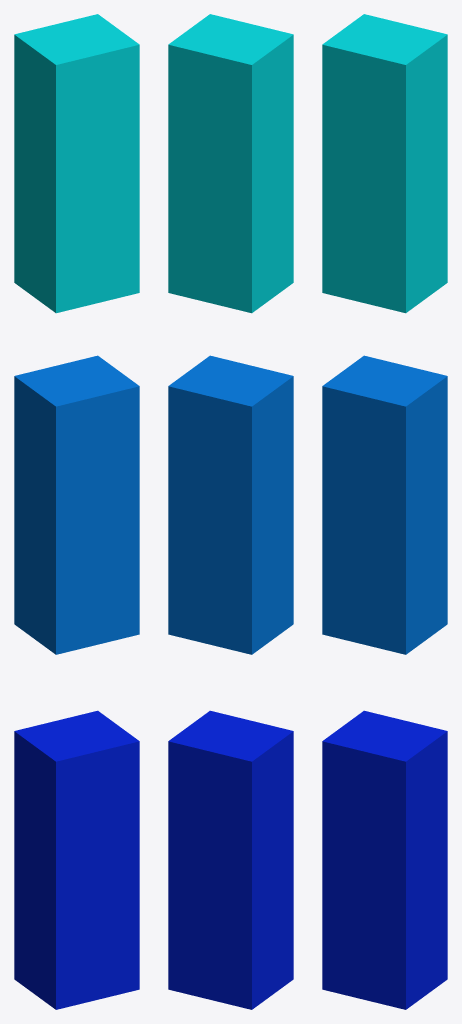
The picture shows the model from 3 angles, left to right: view 1: azimuth 30°, elevation 25°; view 2: azimuth 150°, elevation 25°; view 3: azimuth 330°, elevation 25°; orthographic projection.
Parts seen in each view (by area): view 1: 立方体.001, 立方体, 立方体.002; view 2: 立方体.001, 立方体, 立方体.002; view 3: 立方体.001, 立方体, 立方体.002.
Part boxes in pixels (left/top/right/bottom): 立方体.001: left=14, top=355, right=139, bottom=654; 立方体: left=14, top=14, right=139, bottom=313; 立方体.002: left=14, top=710, right=139, bottom=1009; 立方体.001: left=168, top=355, right=293, bottom=654; 立方体: left=168, top=14, right=293, bottom=313; 立方体.002: left=168, top=710, right=293, bottom=1009; 立方体.001: left=322, top=355, right=447, bottom=654; 立方体: left=322, top=14, right=447, bottom=313; 立方体.002: left=322, top=710, right=447, bottom=1009.
Size of what is drawn, in the model's own units: 0.0403 by 0.4343 by 0.0349.
